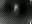person: (14, 3, 21, 16)
